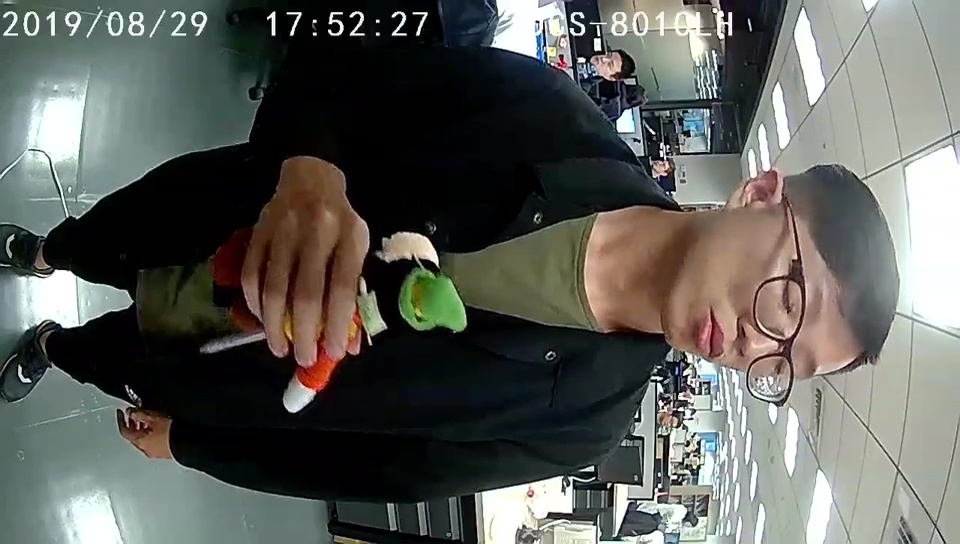goofy: (215, 231, 467, 412)
